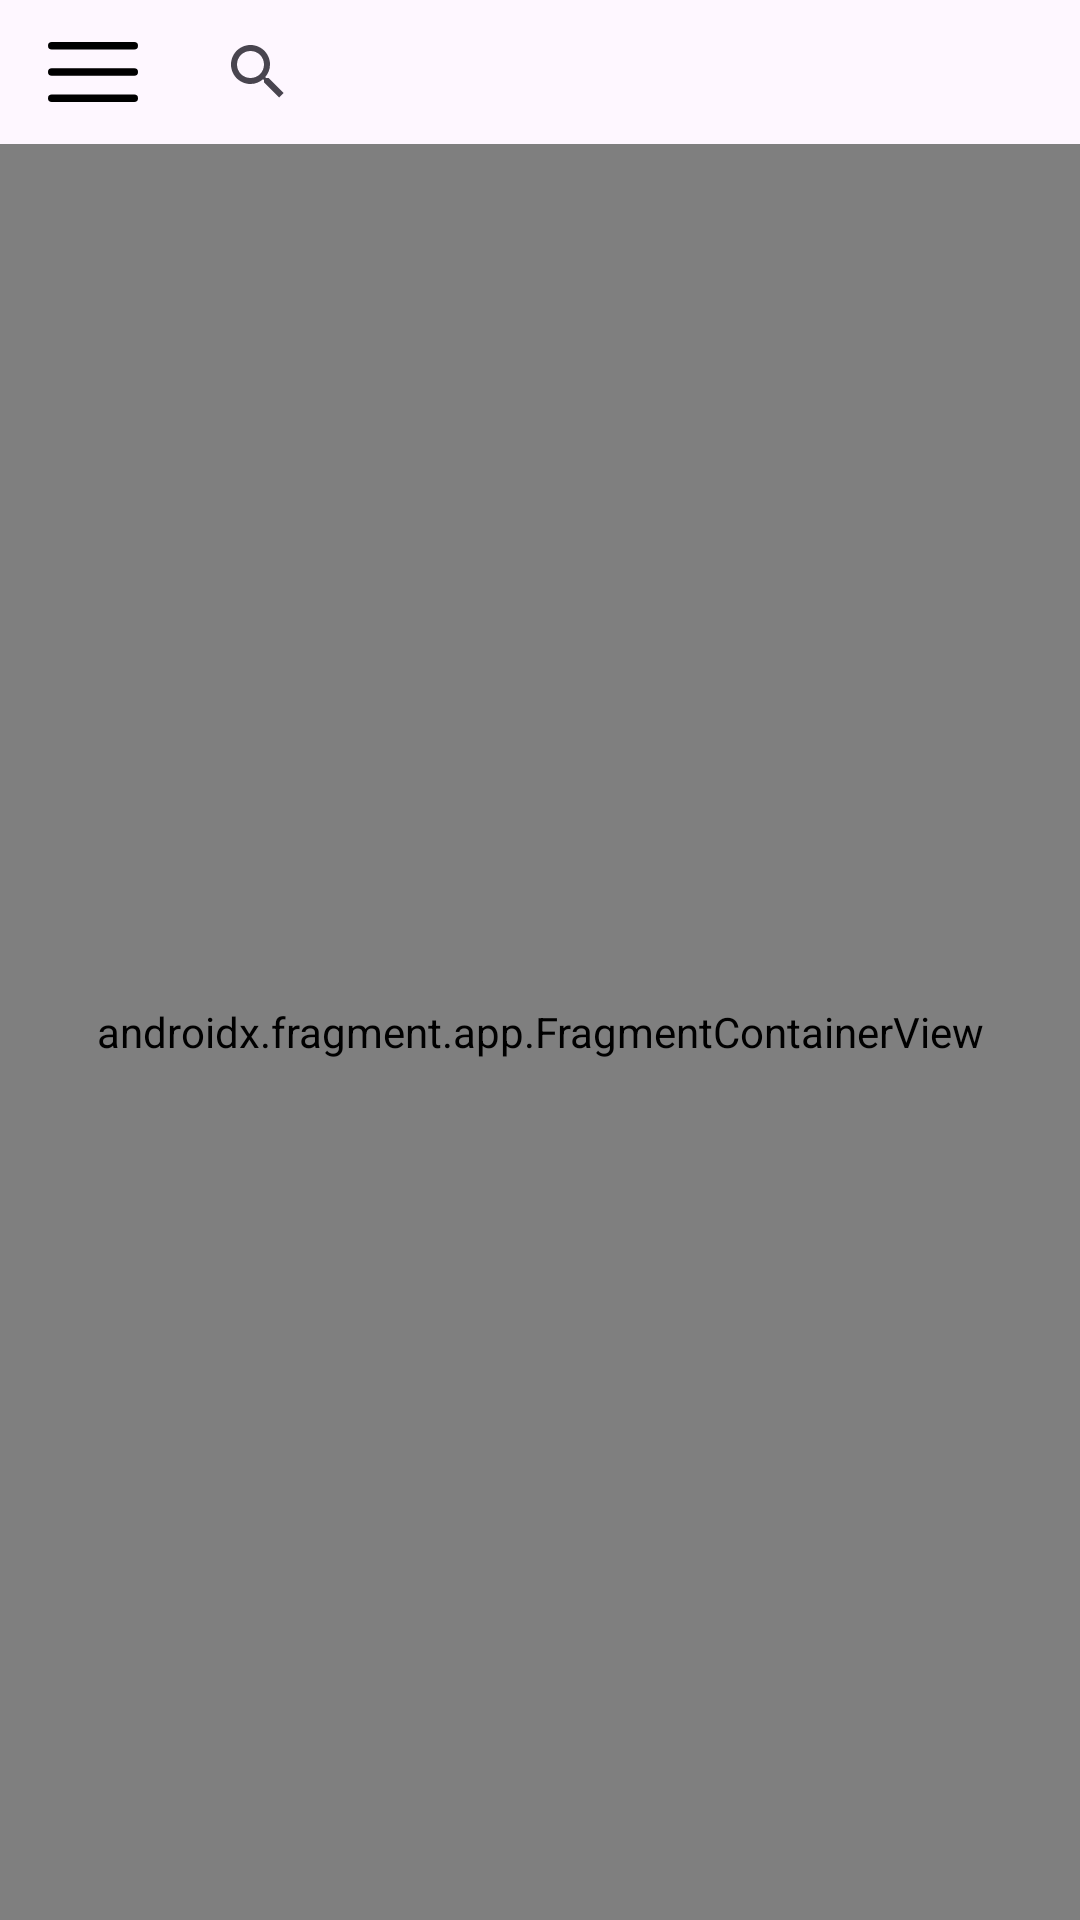

Screen size 1080 × 1920. Icon name, then its box in pixels as (x1, y1, x2, y2):
burger: (48, 42, 138, 102)
